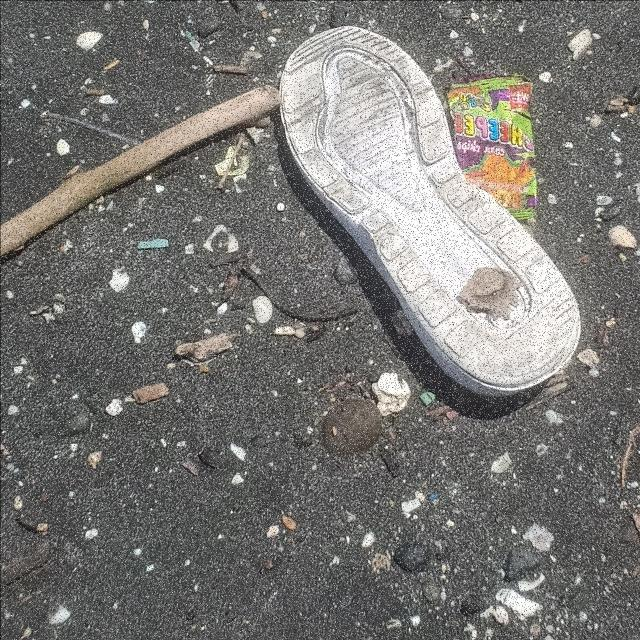plastic_waste: (442, 75, 538, 220)
rubber_waste: (276, 26, 582, 396)
